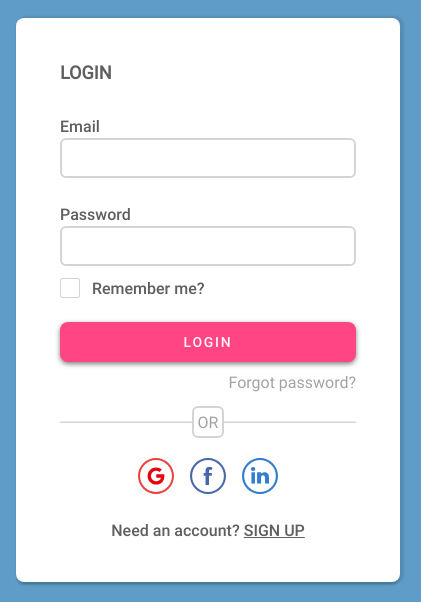
Test: LoginPage › renders correct errors when email/password does not meet requirements
The image size is (421, 602).
Click the button with test id "btn-submit" at (208, 342), box [60,322,356,362]
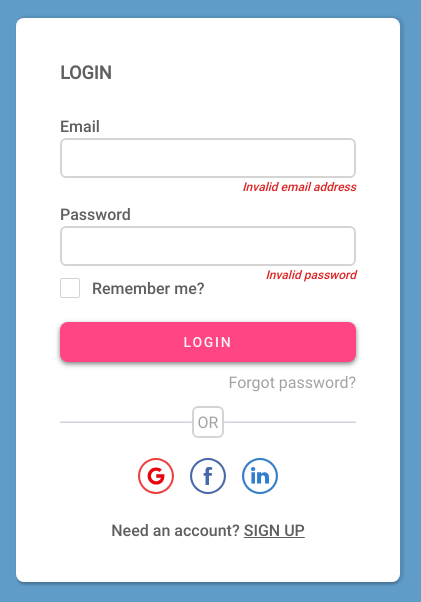
Check: the number of elements with test id "error" is 2, box [242,178,356,194]; [265,266,356,282]
Check: the text with test id "error" reads "Invalid email address", box [242,178,356,194]
Check: the text with test id "error" reads "Invalid password", box [265,266,356,282]
